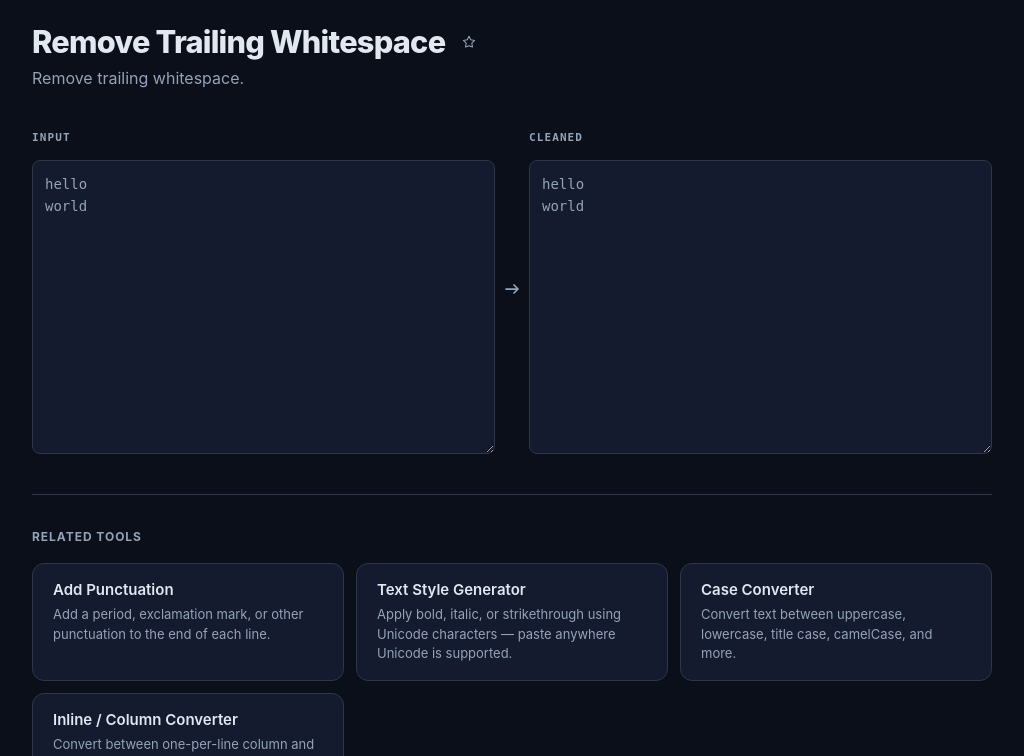
Test: RemoveTrailingWhitespace › removes trailing spaces from each line
Type "hello   " into the text box named "input" at coordinates (264, 307), box [32,160,495,454]
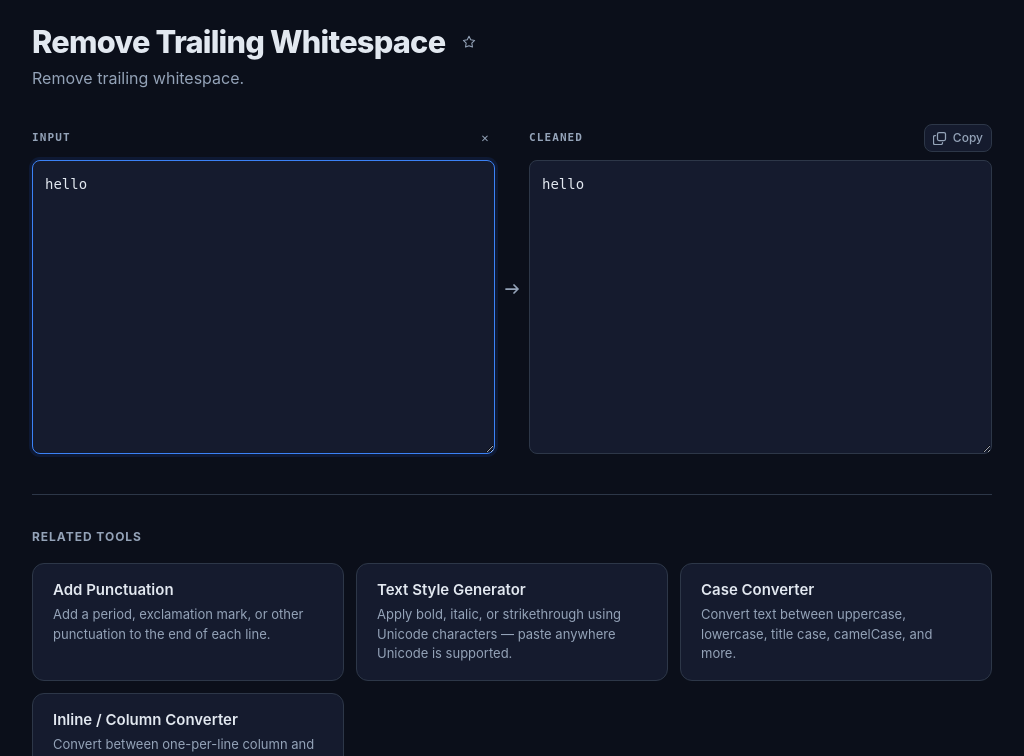
Now the text box named "cleaned" holds "hello", box [529,160,992,454]
